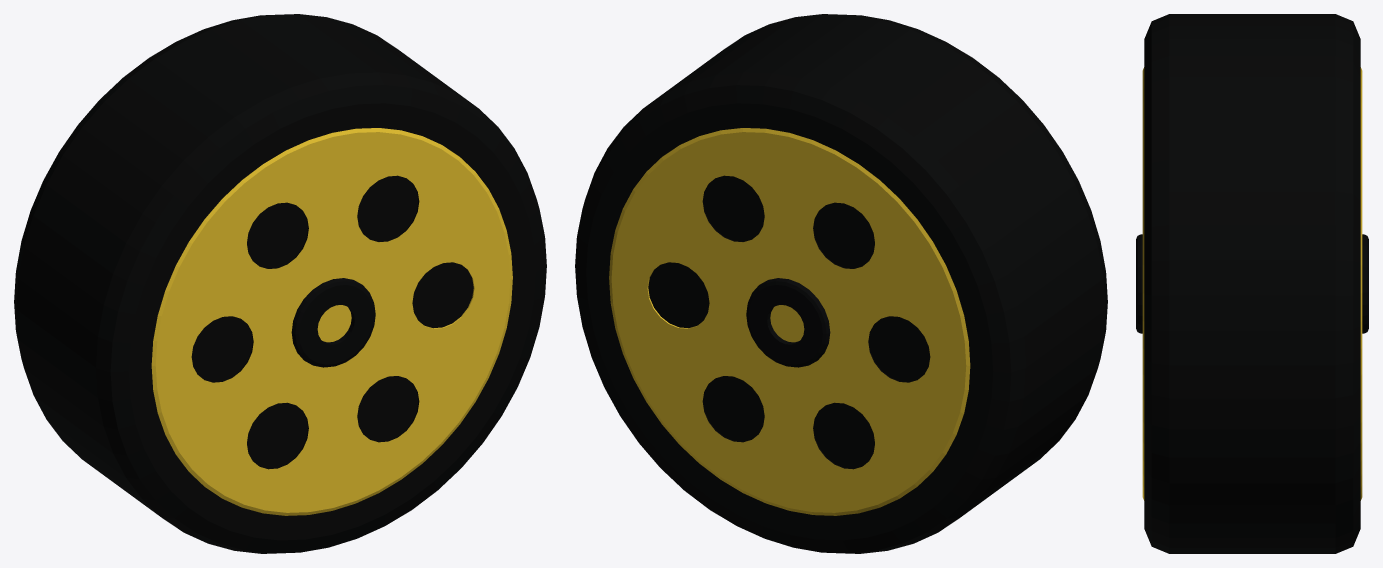
Rendered from wheel_65.obj.
3 renders of one model, left to right at view 1: azimuth 30°, elevation 25°; view 2: azimuth 150°, elevation 25°; view 3: azimuth 270°, elevation 25°, orthographic. The views are drawn at different scales.
Parts seen in each view (by area): view 1: wheel_65; view 2: wheel_65; view 3: wheel_65.
Part boxes in pixels (x1,y1,x2,y2): wheel_65: [14, 14, 546, 553]; wheel_65: [575, 14, 1107, 553]; wheel_65: [1136, 14, 1368, 553].
Size of the model in its own units: 0.065 by 0.065 by 0.028.
